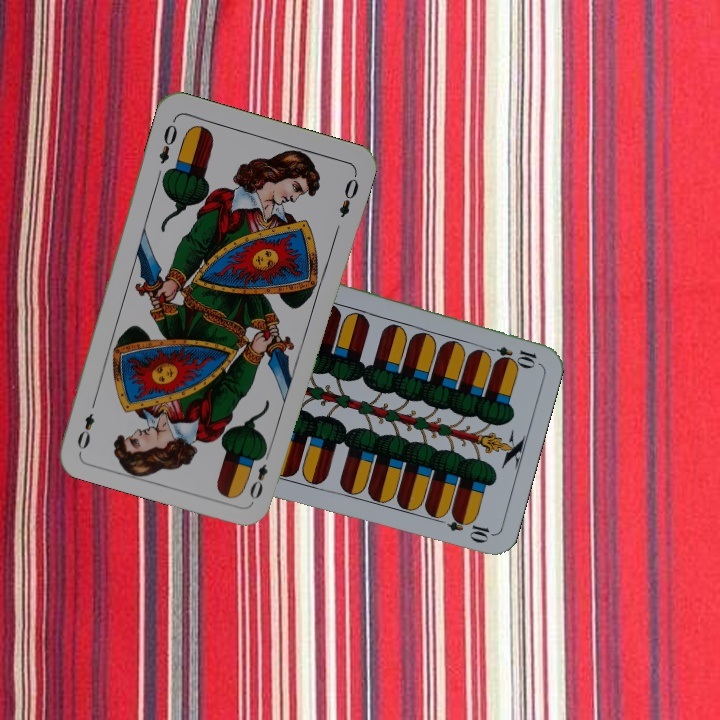E10: (480, 342, 539, 368)
EO: (245, 445, 272, 502), (154, 120, 180, 167)
